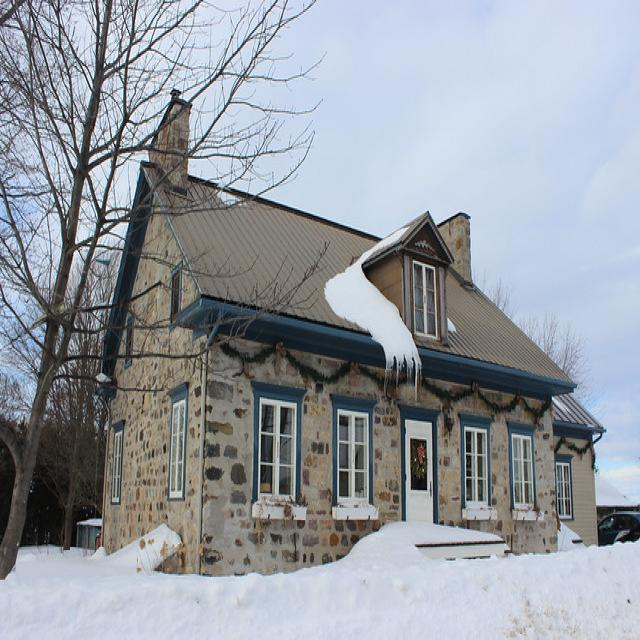Normal_building: (94, 92, 604, 587)
